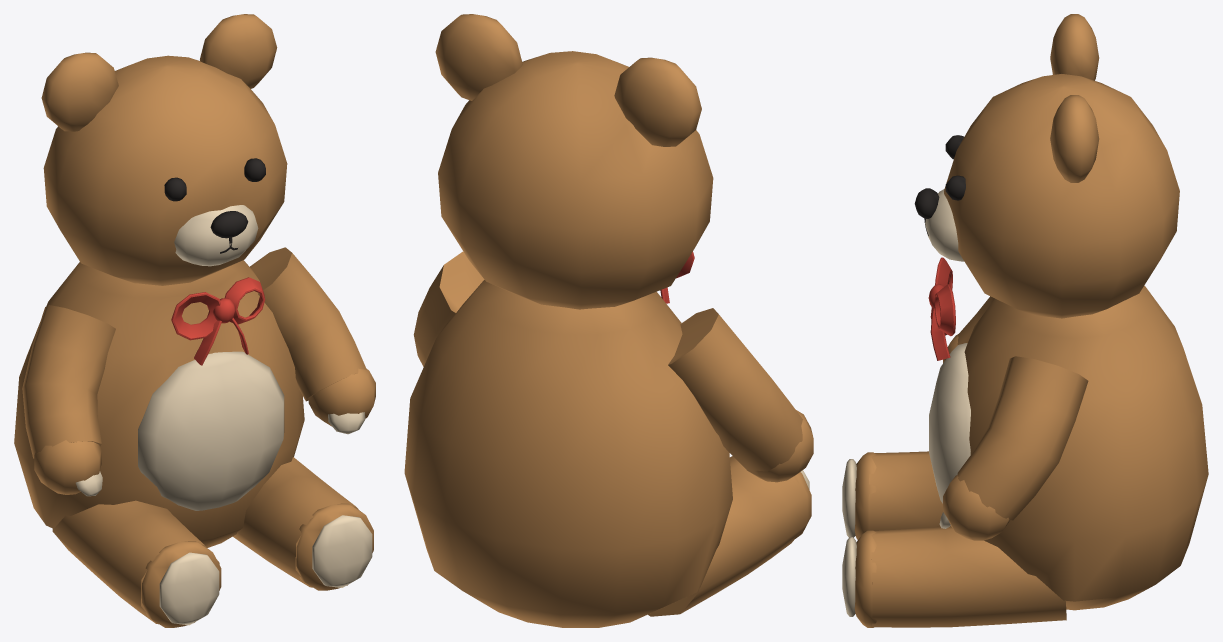
File: teddyBear.glb
3 views of the same model, side by side, from view 1: azimuth 30°, elevation 25°; view 2: azimuth 150°, elevation 25°; view 3: azimuth 270°, elevation 25° (orthographic). The views are drawn at different scales.
Parts seen in each view (by area): view 1: bear; view 2: bear; view 3: bear.
Part boxes in pixels (bbox=[...]): bear: bbox=[14, 14, 375, 627]; bear: bbox=[404, 14, 813, 627]; bear: bbox=[842, 14, 1208, 627].
Size of the model in its own units: 0.6276 by 0.9127 by 0.5743.
